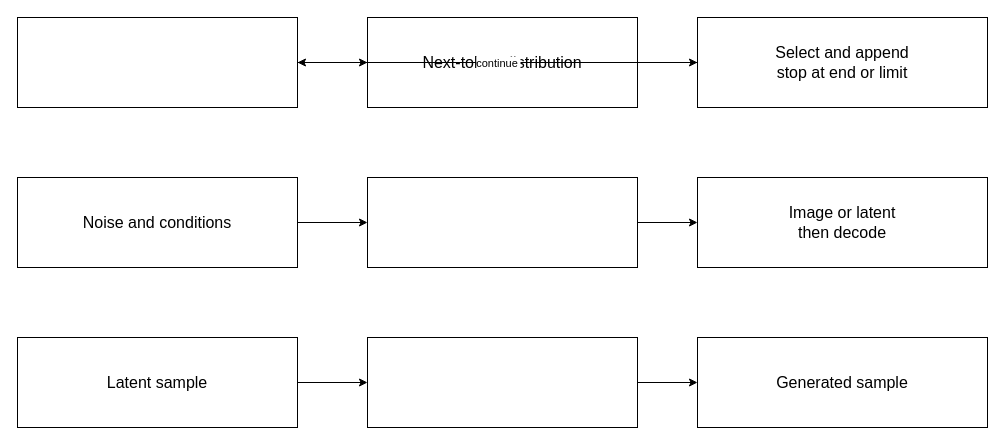
Some shapes in this 1005 by 445 pixel diagram are drawn without their labels. The box of each missing label's shape, as (x1, y1, x2, y2) in pixels:
Decoder or generator: (366, 336, 638, 428)
Iterative denoising: (366, 176, 638, 268)
Previous tokens: (16, 16, 298, 108)
